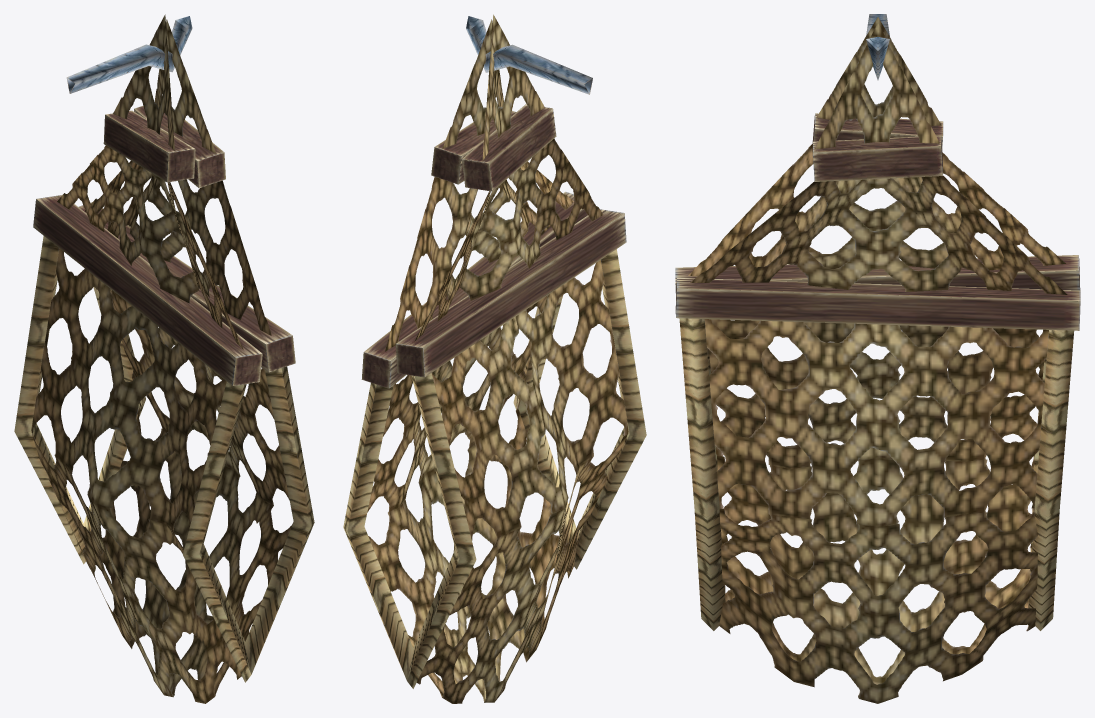
Rendered from hammock02.obj.
3 views of the same model, side by side, from view 1: azimuth 30°, elevation 25°; view 2: azimuth 150°, elevation 25°; view 3: azimuth 270°, elevation 25° (orthographic).
Parts seen in each view (by area): view 1: HAMMOCK021, HAMMOCK020; view 2: HAMMOCK021, HAMMOCK020; view 3: HAMMOCK021, HAMMOCK020.
Part boxes in pixels (left/top/right/bottom): HAMMOCK021: left=31, top=14, right=293, bottom=703; HAMMOCK020: left=14, top=16, right=314, bottom=682; HAMMOCK021: left=367, top=14, right=628, bottom=703; HAMMOCK020: left=343, top=16, right=646, bottom=688; HAMMOCK021: left=688, top=17, right=1067, bottom=703; HAMMOCK020: left=675, top=14, right=1080, bottom=630.
Bounding box in the file's own units: 0.8394 × 3.34 × 1.78.
Materials: 2 (2 with a texture image).
